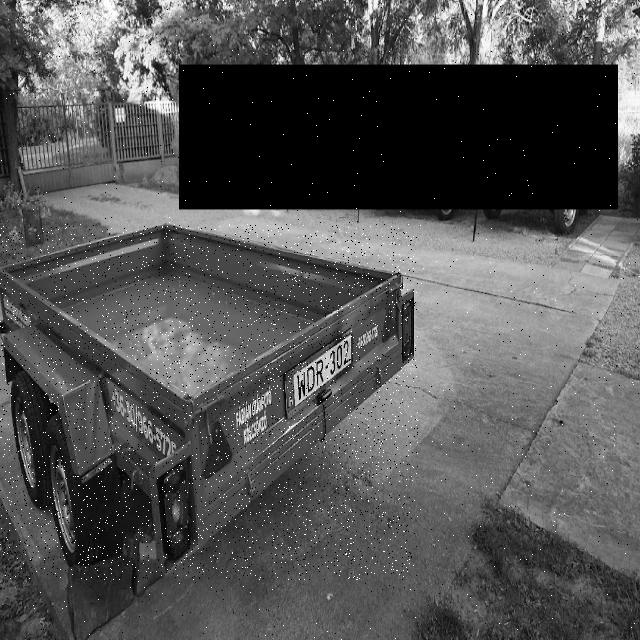Box Truck: (0, 224, 418, 580)
